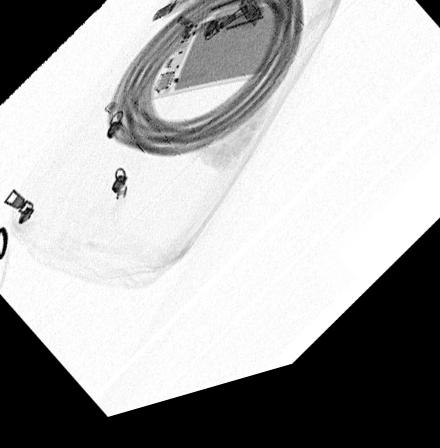Powerbank: (149, 11, 295, 106)
